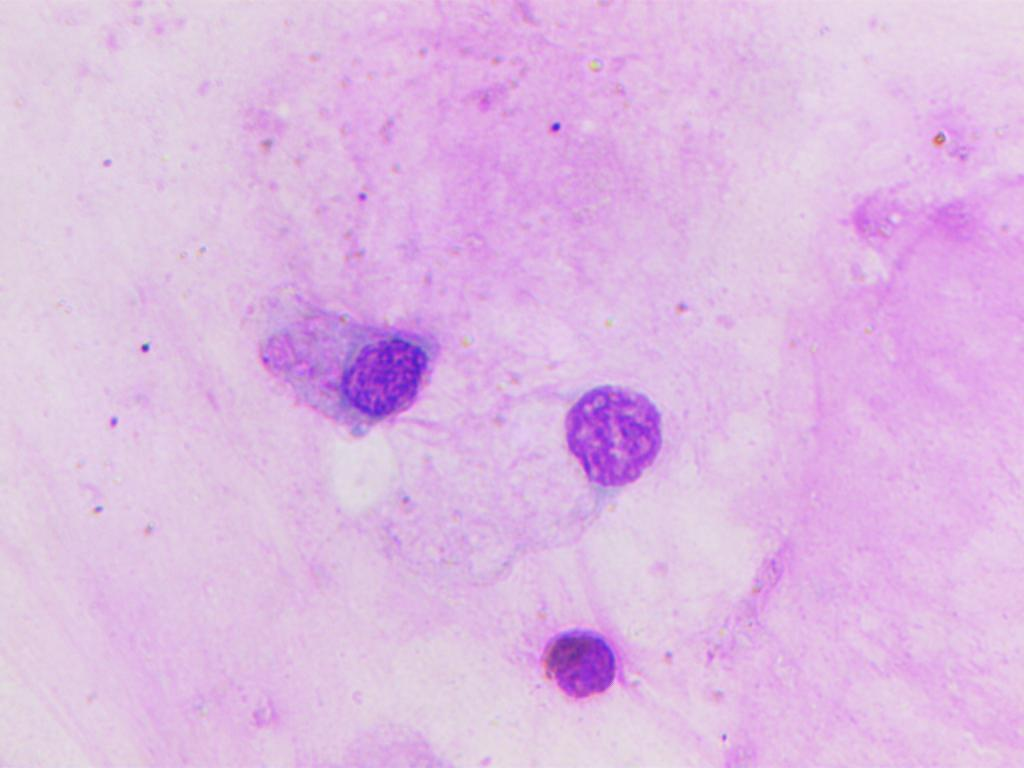epithelial: (340, 314, 447, 436), (565, 383, 664, 488)
lymphocyte: (541, 618, 618, 699)
